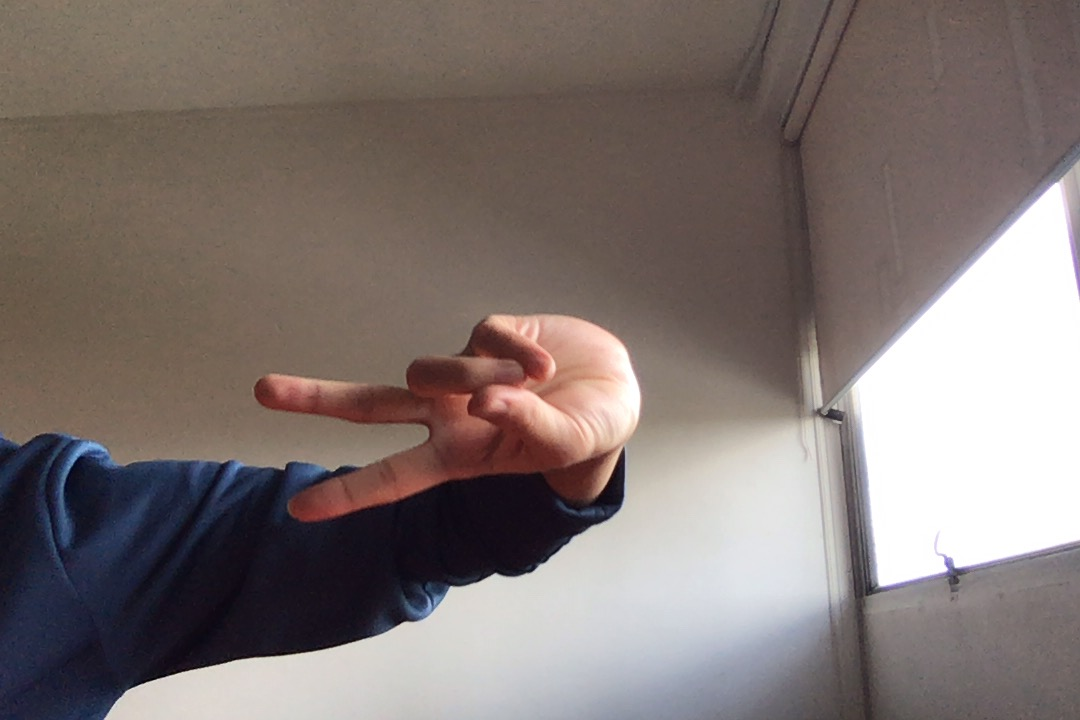peacesign: (238, 301, 653, 528)
